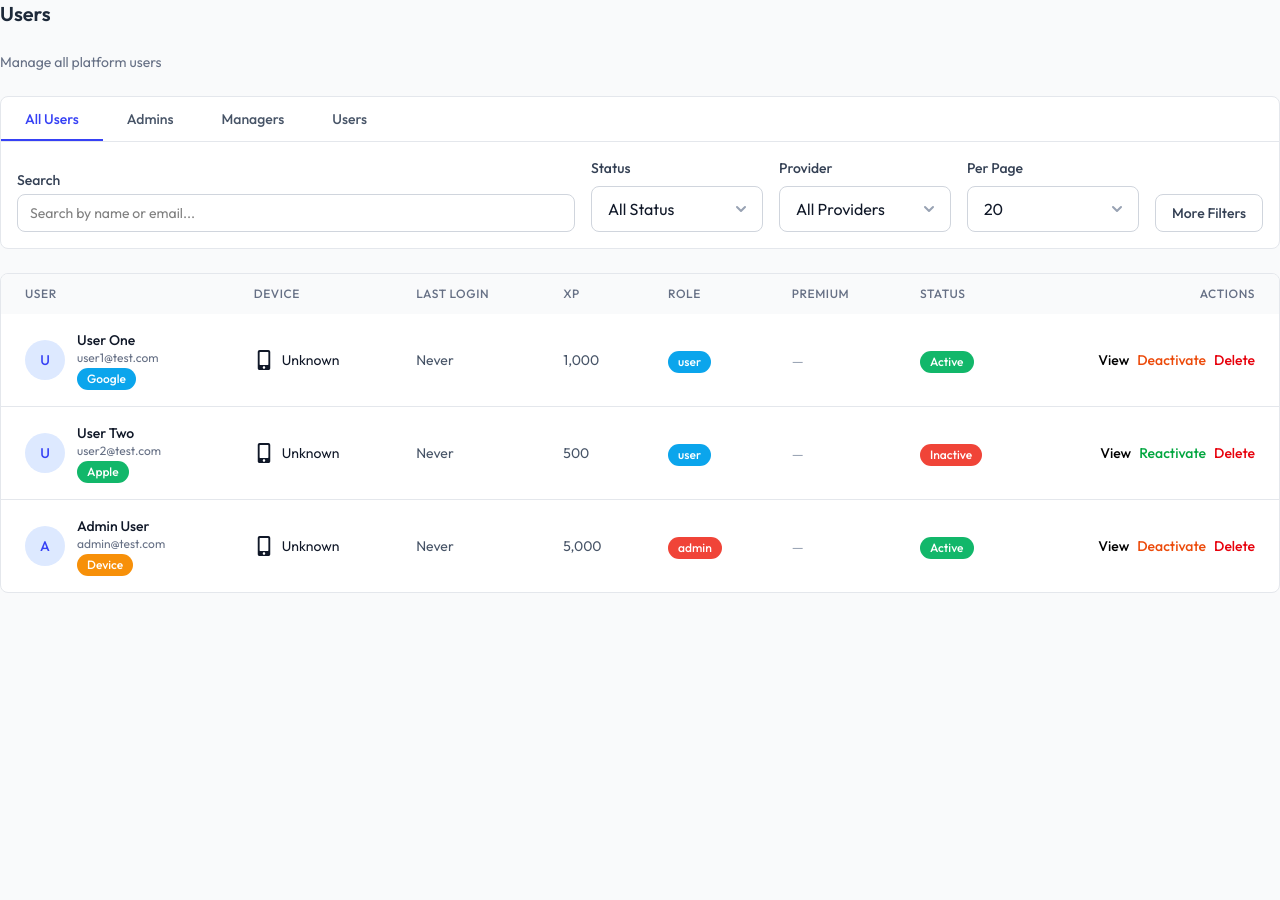
Test: UsersPage › User Actions › closes modal on cancel
This screenshot has width=1280, height=900.
Open modal
Click the button "Deactivate" in the row of "user1@test.com" at (1172, 360), box x1=1137 y1=350 x2=1206 y2=370
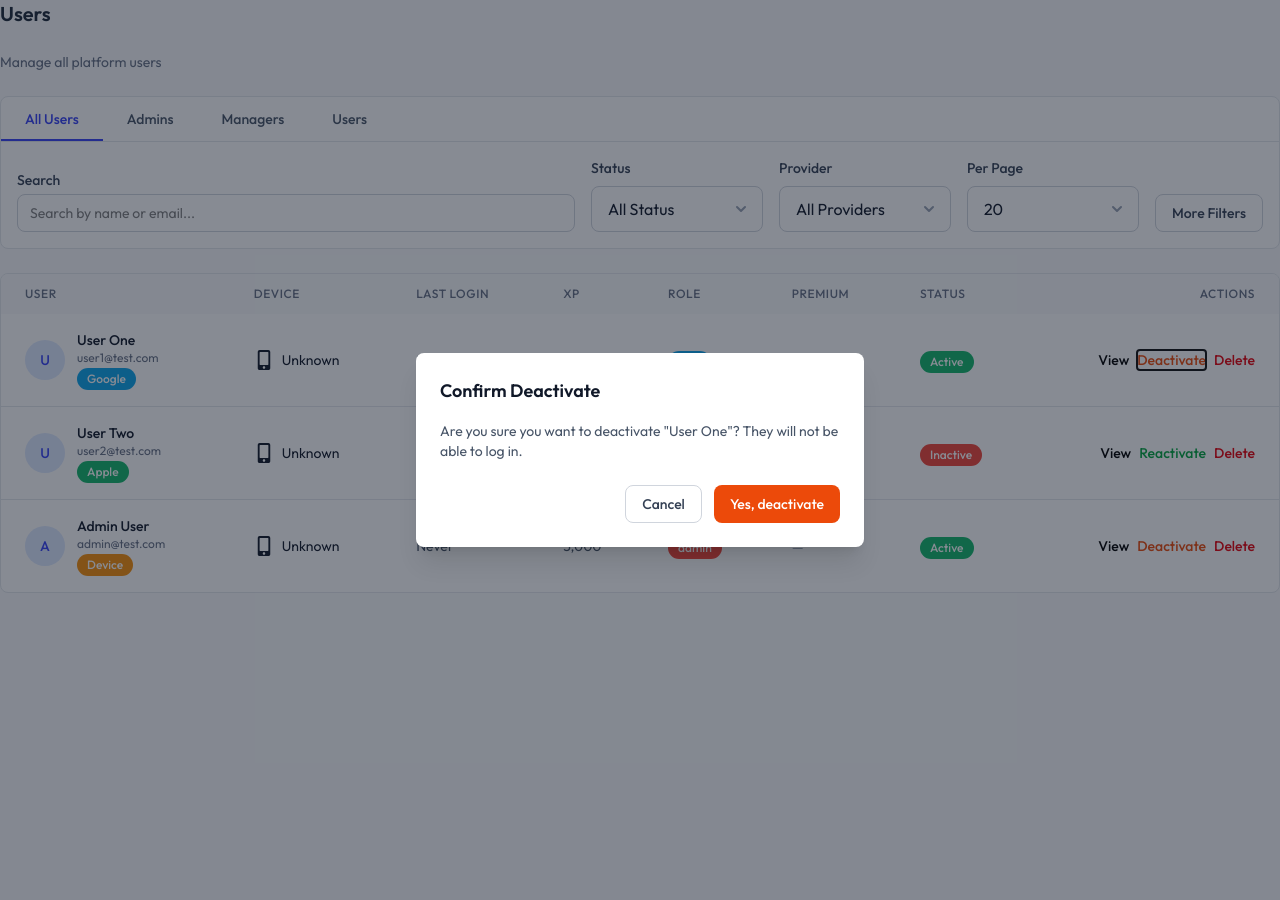
Now the heading "Confirm Deactivate" is shown, box x1=440 y1=379 x2=600 y2=402
Click cancel
Click the button "Cancel" at (664, 504), box x1=625 y1=485 x2=702 y2=523
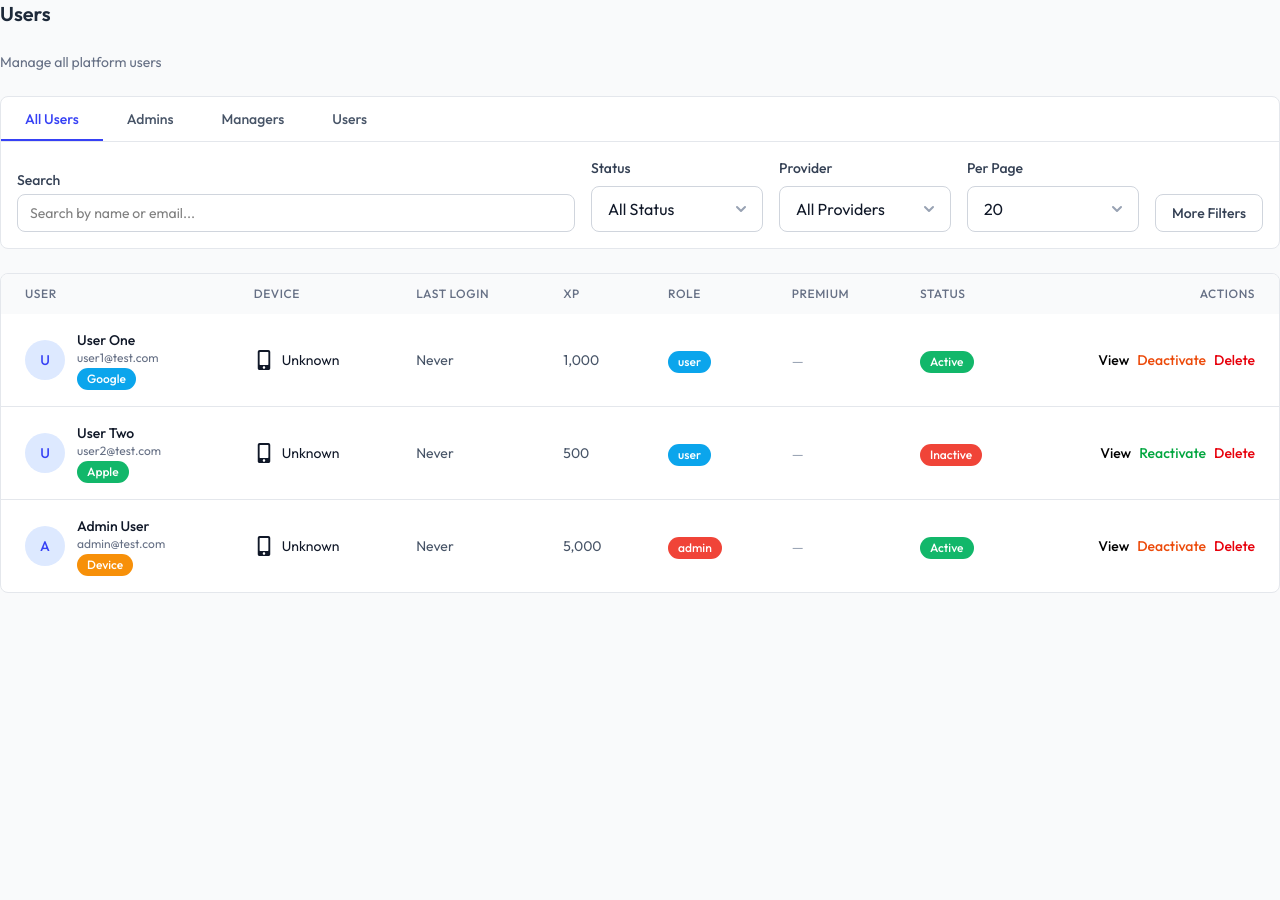
Now the heading "Confirm Deactivate" is gone
